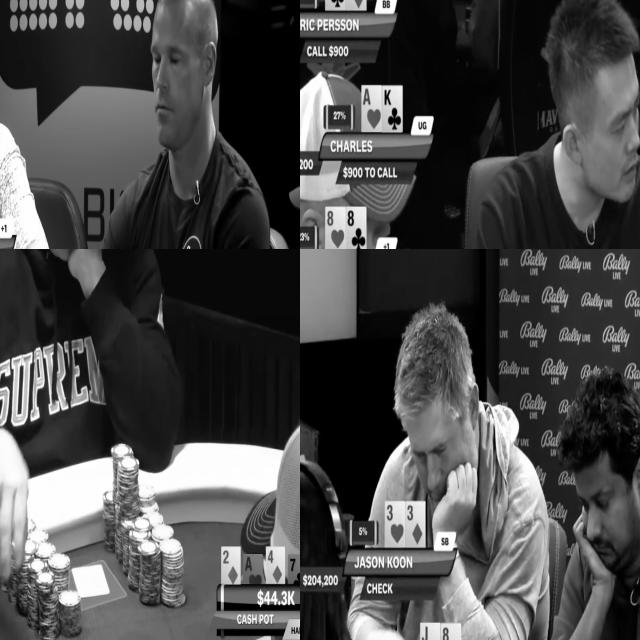10D: (346, 0, 365, 10)
2D: (221, 547, 241, 585)
3D: (405, 502, 426, 546)
3H: (385, 502, 405, 547)
4D: (266, 547, 285, 585)
4H: (362, 86, 382, 132)
7C: (288, 554, 300, 585)
8C: (347, 206, 366, 249)
8D: (440, 623, 461, 640)
8H: (325, 207, 345, 249)
AH: (243, 555, 263, 585)
JD: (420, 623, 440, 640)
KC: (382, 85, 402, 132)
QC: (325, 0, 345, 10)
